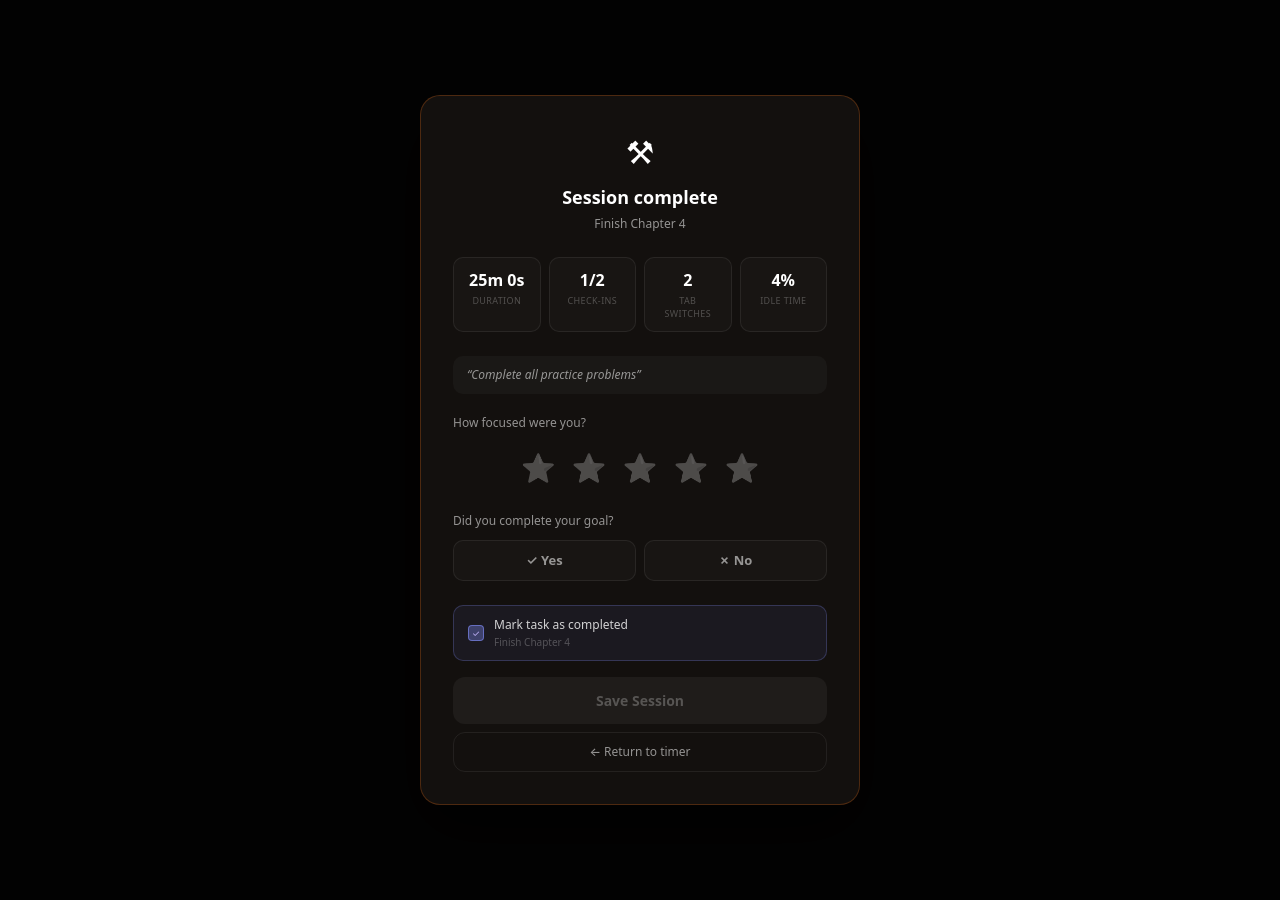
Test case: PostSessionCard › shows a live focus score preview once rating and commitment are set
expect the text "Focus Score" is not shown: met
What coordinates should you click on to do the following:
click the 5th button "⭐"
I would click on:
 (742, 467)
Its box is [720,442,763,492].
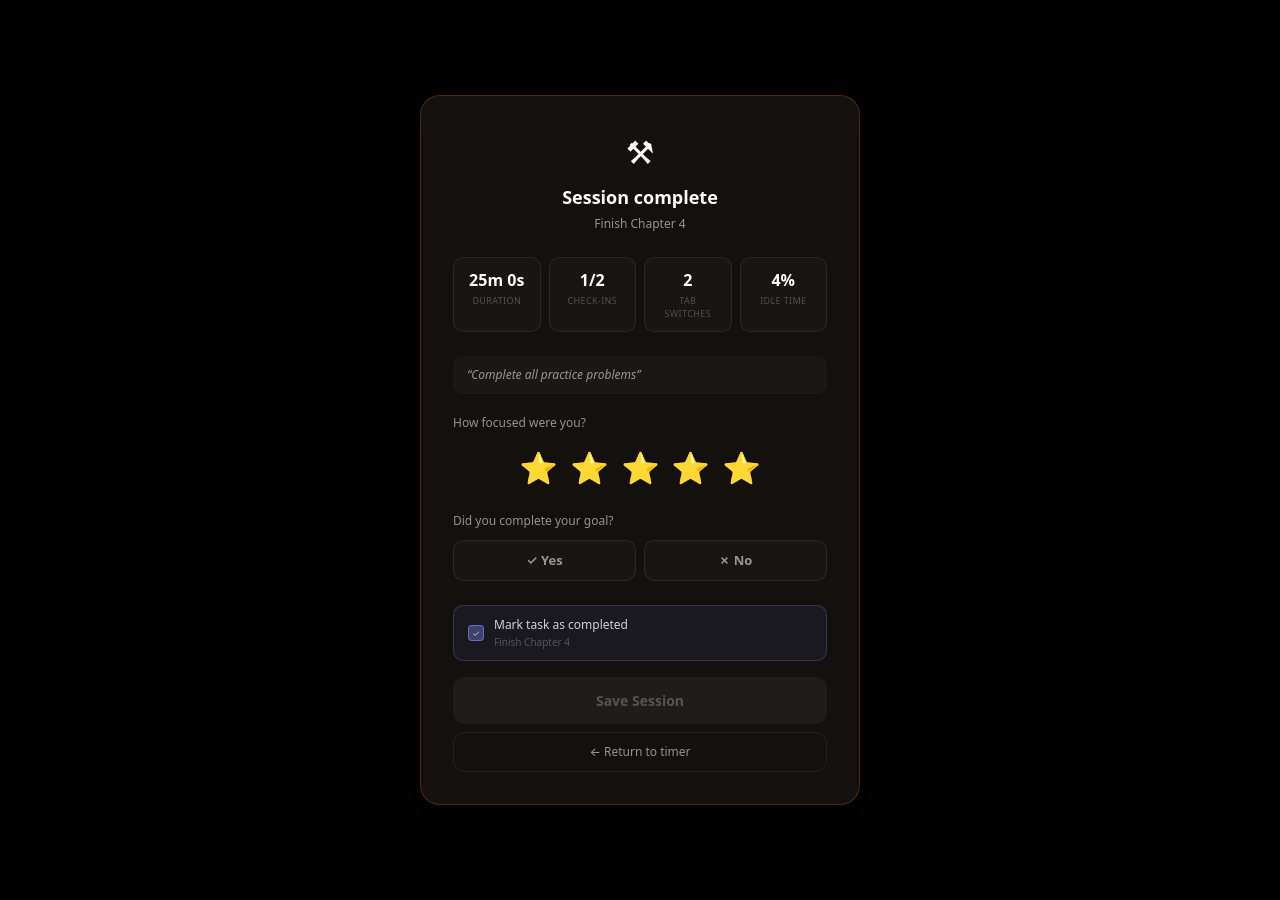
What coordinates should you click on to do the following:
click the button "✓ Yes"
I would click on:
 (544, 561)
Its box is [453,540,636,581].
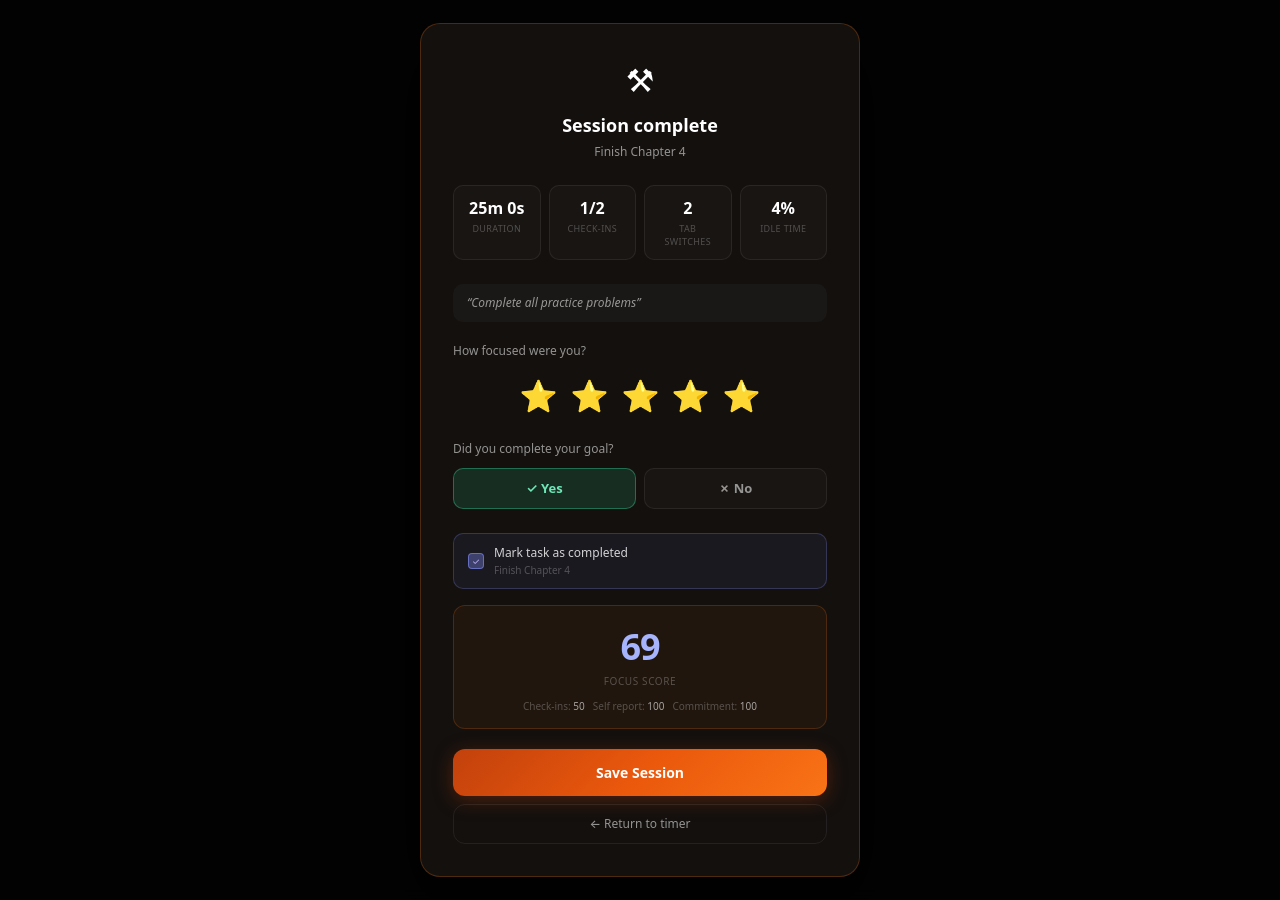
expect the text "Focus Score" is shown: met, box [604,674,676,688]
